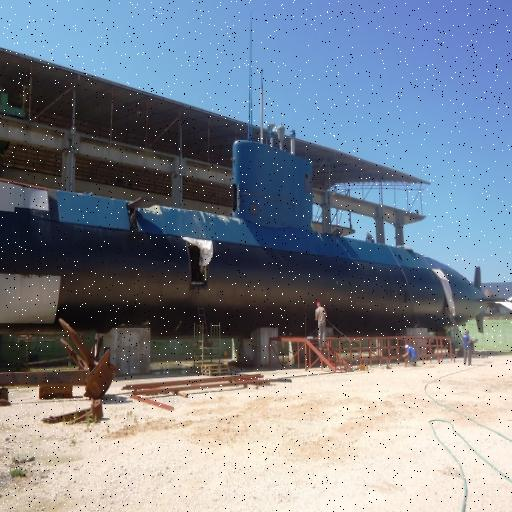submarine: (1, 66, 497, 334)
